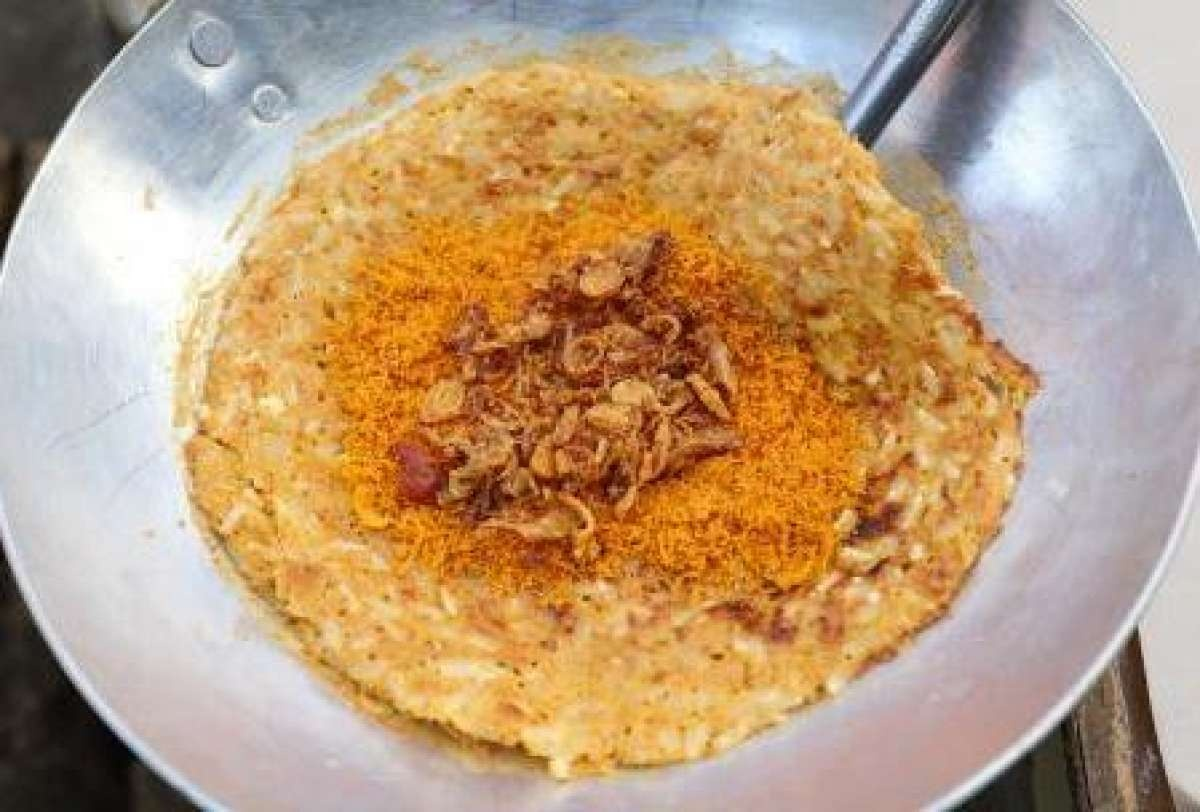kerak_telor: (177, 55, 1054, 759)
